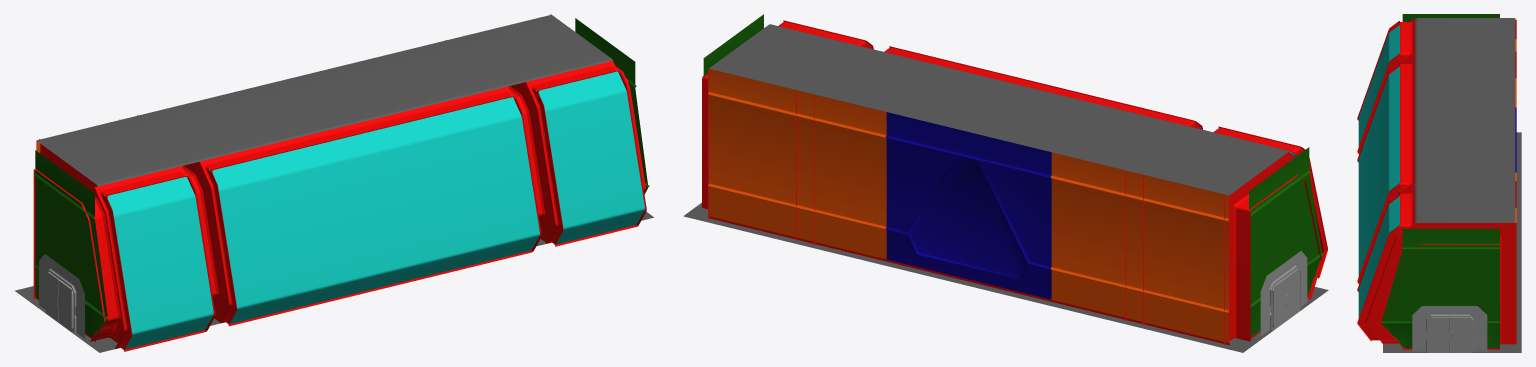
3 renders of one model, left to right at view 1: azimuth 30°, elevation 25°; view 2: azimuth 150°, elevation 25°; view 3: azimuth 270°, elevation 25°, orthographic. The views are drawn at different scales.
Visible parts, largest first — view 1: window, floor, 1, 4, DoorWall, corridorDoorRight01, corriodrDoorLeft01; view 2: 2, floor, 3, 1, 4, DoorWall, corridorDoorRight01, corriodrDoorLeft01; view 3: floor, 4, 1, window, DoorWall, corridorDoorRight02, corriodrDoorLeft02.
Boxes of the visible parts, left/top/right/bottom form: window: left=104, top=70, right=644, bottom=349; floor: left=15, top=14, right=653, bottom=352; 1: left=33, top=14, right=646, bottom=351; 4: left=33, top=18, right=649, bottom=339; DoorWall: left=39, top=254, right=84, bottom=338; corridorDoorRight01: left=57, top=280, right=71, bottom=332; corriodrDoorLeft01: left=45, top=270, right=58, bottom=322; 2: left=708, top=68, right=1228, bottom=342; floor: left=683, top=24, right=1328, bottom=352; 3: left=885, top=112, right=1051, bottom=299; 1: left=702, top=20, right=1327, bottom=345; 4: left=703, top=14, right=1323, bottom=336; DoorWall: left=1260, top=251, right=1307, bottom=336; corridorDoorRight01: left=1286, top=268, right=1300, bottom=319; corriodrDoorLeft01: left=1274, top=277, right=1287, bottom=329; floor: left=1383, top=18, right=1521, bottom=352; 4: left=1381, top=14, right=1499, bottom=347; 1: left=1357, top=18, right=1516, bottom=350; window: left=1358, top=25, right=1399, bottom=318; DoorWall: left=1412, top=306, right=1487, bottom=352; corridorDoorRight02: left=1428, top=318, right=1451, bottom=352; corriodrDoorLeft02: left=1450, top=318, right=1471, bottom=352.
Bounding box in the file's own units: 3125 × 800 × 982.
